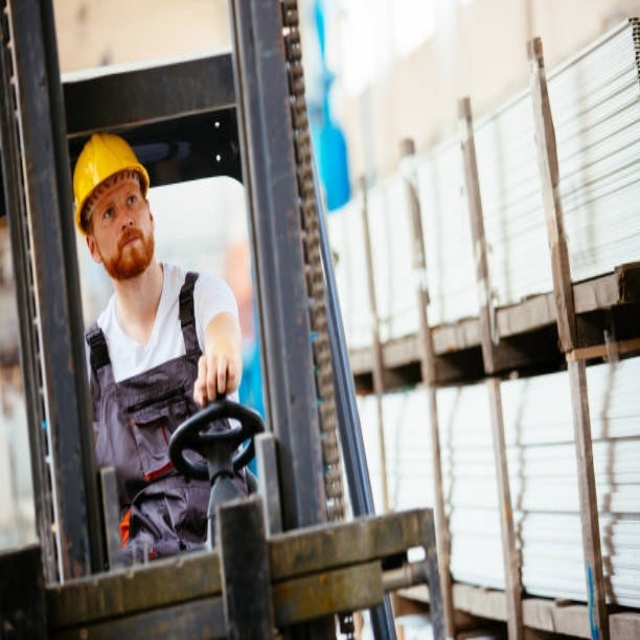Sin_gafas: (94, 185, 141, 231)
Sin_guantes: (193, 330, 243, 406)
Sin_mascara: (111, 229, 151, 265)
